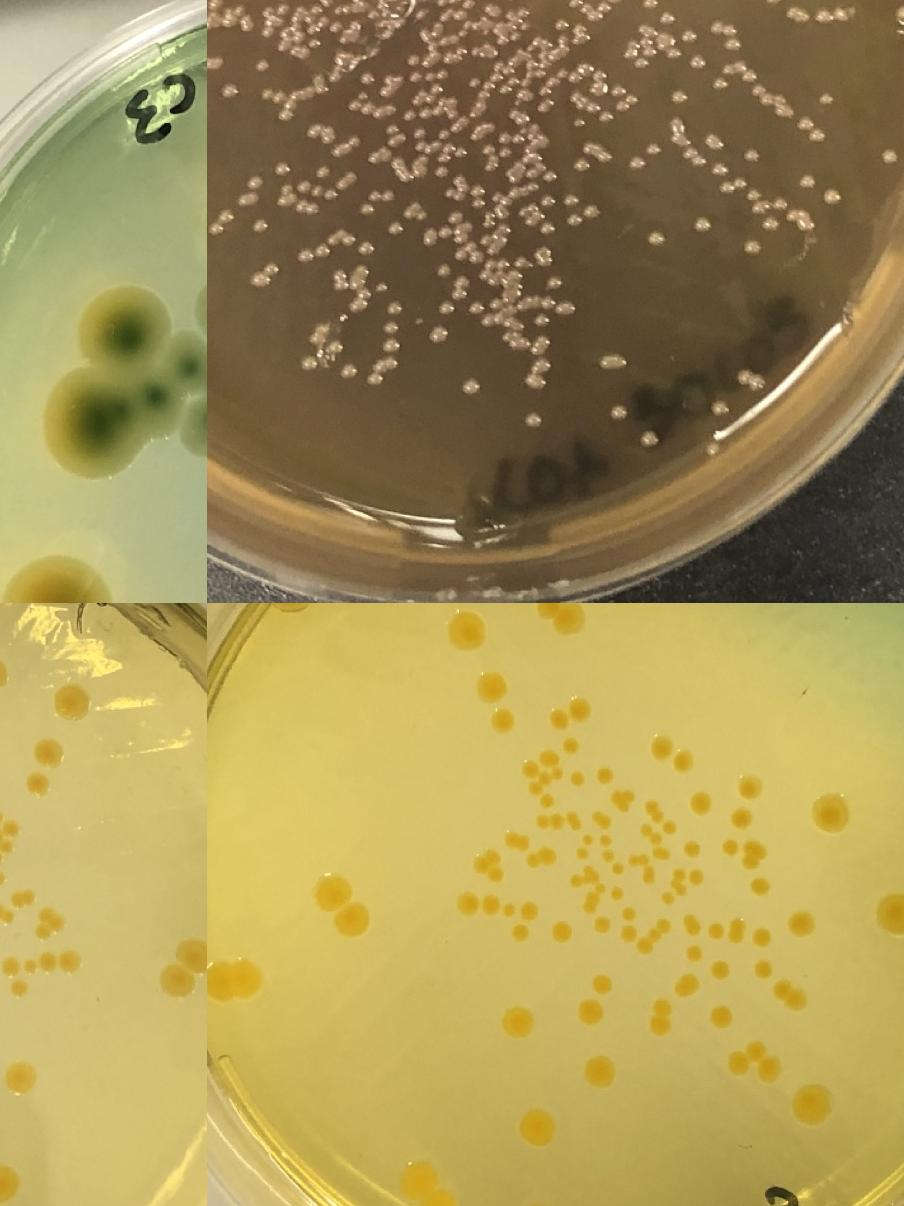assalmonicida: (720, 59, 766, 97), (468, 70, 521, 102), (538, 66, 582, 97), (434, 142, 468, 178), (624, 34, 658, 70), (710, 20, 740, 52), (453, 239, 484, 266), (296, 242, 332, 265), (580, 140, 613, 164), (538, 296, 576, 316), (569, 90, 599, 114), (496, 254, 530, 272), (671, 116, 690, 148), (349, 88, 370, 114), (748, 188, 768, 215), (720, 176, 748, 194), (616, 92, 640, 112), (372, 102, 395, 122), (260, 88, 286, 105), (498, 131, 513, 160), (453, 276, 469, 302), (787, 208, 810, 224), (593, 69, 607, 95), (332, 268, 347, 292), (357, 240, 377, 258), (336, 172, 356, 190), (536, 244, 552, 266), (374, 358, 399, 372), (647, 231, 667, 248), (693, 217, 713, 234), (238, 192, 258, 208), (296, 202, 318, 216), (532, 314, 551, 330), (545, 277, 565, 292), (524, 414, 544, 428), (262, 262, 282, 276), (384, 222, 404, 236), (207, 56, 225, 71), (610, 404, 629, 418), (418, 28, 434, 44), (239, 16, 255, 32), (534, 336, 552, 350), (484, 0, 499, 15), (542, 220, 556, 236), (824, 190, 840, 204), (308, 34, 322, 49), (433, 328, 447, 342), (384, 322, 398, 336), (482, 312, 496, 326), (388, 302, 402, 316), (440, 301, 454, 315), (438, 264, 452, 278), (423, 230, 437, 244), (763, 216, 777, 230), (568, 212, 582, 226), (449, 210, 463, 224), (540, 194, 554, 208), (543, 169, 557, 183), (714, 162, 728, 176), (276, 162, 290, 176), (575, 158, 589, 172), (693, 154, 707, 168), (745, 148, 759, 162), (481, 142, 495, 156), (648, 142, 662, 156), (438, 127, 452, 141), (385, 123, 399, 137), (573, 116, 587, 130), (599, 110, 613, 124), (279, 109, 293, 123), (402, 109, 416, 123), (446, 106, 460, 120), (536, 100, 550, 114), (672, 90, 686, 104), (222, 84, 236, 98), (714, 77, 728, 91), (361, 72, 375, 86), (410, 70, 424, 84), (257, 56, 271, 70), (691, 55, 705, 69), (407, 54, 421, 68), (668, 48, 682, 62), (292, 30, 306, 44), (682, 30, 696, 44), (260, 24, 274, 38), (330, 20, 344, 34), (554, 17, 568, 31), (835, 8, 849, 22), (597, 0, 611, 14), (385, 340, 399, 353), (439, 226, 452, 240), (775, 198, 788, 212), (564, 194, 577, 208), (382, 190, 396, 203), (820, 92, 833, 106), (613, 84, 626, 98), (437, 68, 450, 82), (318, 165, 330, 180), (469, 300, 482, 313), (337, 312, 349, 326), (352, 300, 366, 312), (490, 298, 502, 312), (209, 222, 221, 236), (586, 205, 598, 219), (362, 202, 374, 216), (312, 184, 324, 198), (299, 180, 311, 194), (802, 174, 814, 188), (632, 156, 644, 170), (414, 127, 426, 141), (516, 112, 528, 126), (662, 12, 674, 26), (518, 6, 530, 20), (368, 190, 380, 203), (420, 108, 433, 120), (377, 282, 389, 294), (255, 220, 267, 232), (326, 190, 338, 202), (281, 184, 293, 196), (250, 176, 262, 188), (532, 36, 544, 48), (574, 23, 586, 35), (519, 22, 531, 34), (461, 19, 473, 31), (504, 9, 516, 21), (209, 0, 223, 10), (569, 0, 583, 10), (645, 0, 659, 10), (462, 0, 475, 10), (436, 0, 448, 8), (769, 0, 783, 6), (320, 0, 333, 6)
valgino: (44, 284, 176, 476), (1, 557, 112, 603)
vharveyi: (316, 875, 372, 938), (398, 1158, 460, 1206), (727, 1040, 786, 1086), (626, 823, 670, 884), (161, 938, 207, 996), (207, 960, 261, 1000), (790, 1082, 836, 1128), (569, 863, 608, 914), (549, 695, 591, 731), (456, 890, 514, 916), (535, 603, 586, 632), (522, 761, 566, 794), (636, 916, 671, 956), (520, 1108, 556, 1146), (875, 889, 904, 935), (499, 1003, 535, 1040), (813, 795, 849, 831), (449, 613, 485, 649), (4, 1060, 38, 1095), (30, 736, 66, 769), (54, 686, 90, 718), (772, 979, 807, 1011), (475, 669, 508, 702), (34, 907, 66, 940), (661, 866, 687, 906), (583, 1056, 615, 1088), (473, 848, 503, 882), (648, 995, 672, 1036), (41, 951, 81, 974), (535, 812, 585, 830), (0, 818, 20, 855), (742, 840, 766, 870), (609, 788, 634, 814), (524, 848, 556, 868), (0, 1165, 18, 1200), (710, 1005, 734, 1029), (580, 1001, 604, 1025), (550, 919, 574, 943), (730, 805, 754, 829), (688, 791, 712, 815), (738, 776, 762, 800), (648, 735, 672, 759), (492, 708, 516, 732), (576, 834, 596, 862), (26, 773, 50, 796), (790, 912, 814, 935), (681, 838, 703, 862), (502, 831, 528, 851), (752, 926, 774, 949), (678, 974, 700, 996), (592, 972, 614, 994), (710, 958, 732, 980), (752, 958, 774, 980), (519, 900, 541, 922), (750, 876, 772, 898), (674, 750, 696, 772), (644, 798, 665, 821), (682, 913, 702, 937), (10, 890, 36, 907), (590, 809, 612, 829), (728, 918, 744, 944), (593, 914, 611, 934), (722, 838, 740, 858), (10, 980, 28, 998), (1, 958, 19, 976), (685, 944, 703, 962), (622, 904, 638, 922), (570, 770, 586, 788), (599, 766, 615, 784), (541, 748, 557, 766), (621, 925, 637, 942), (709, 922, 725, 939), (689, 868, 705, 885), (541, 793, 557, 810), (564, 736, 580, 753), (0, 903, 13, 923), (512, 926, 528, 940), (663, 820, 679, 834), (610, 886, 624, 900), (601, 850, 615, 864), (598, 834, 612, 848), (613, 862, 626, 876), (23, 960, 35, 973), (0, 873, 5, 885)
